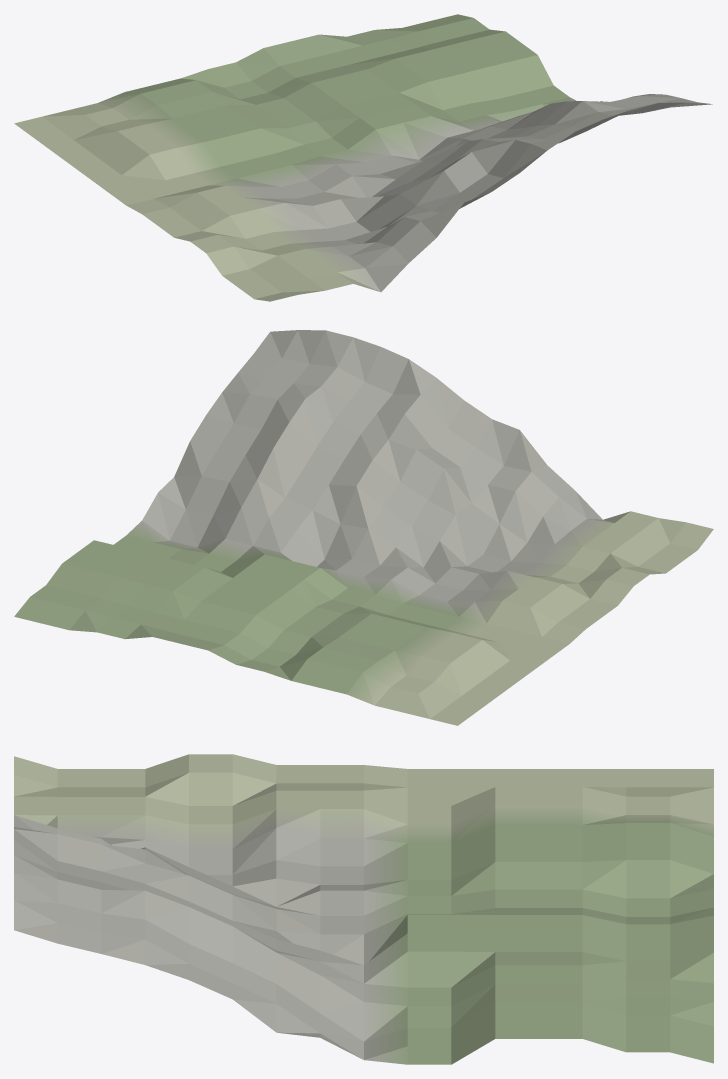
The picture shows the model from 3 angles, top to bottom: view 1: azimuth 30°, elevation 25°; view 2: azimuth 150°, elevation 25°; view 3: azimuth 270°, elevation 25°; orthographic projection. The views are drawn at different scales.
Size of the model in its own units: 32 by 8.51 by 32.
